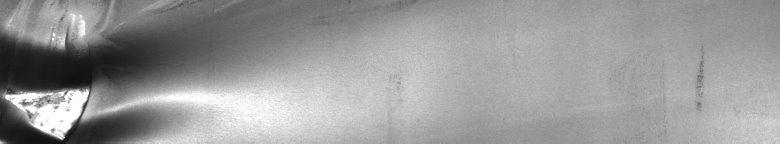ke: (4, 4, 234, 136)
